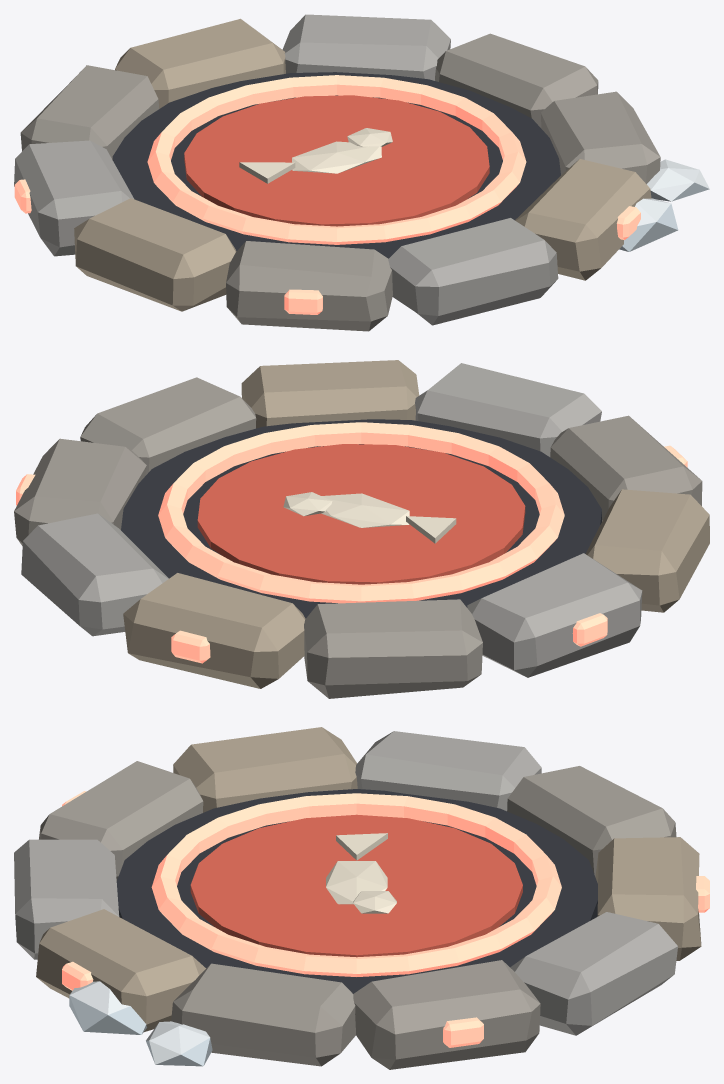
File: respawn_pad.glb
The picture shows the model from 3 angles, top to bottom: view 1: azimuth 30°, elevation 25°; view 2: azimuth 150°, elevation 25°; view 3: azimuth 270°, elevation 25°; orthographic projection. The views are drawn at different scales.
Visible parts, largest first — view 1: respawn_pad; view 2: respawn_pad; view 3: respawn_pad.
Boxes of the visible parts, x1,y1,x2,y2 form: respawn_pad: (14,14,709,331); respawn_pad: (14,360,709,698); respawn_pad: (14,727,709,1069).
Size of the model in its own units: 1.35 by 0.1482 by 1.34.
